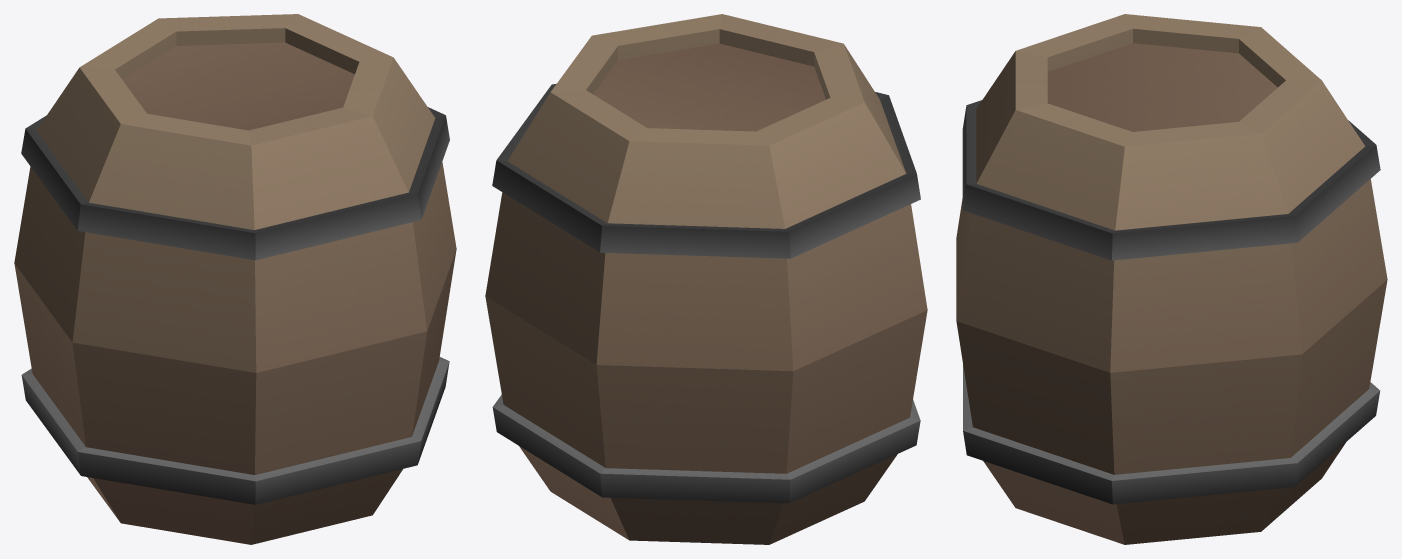
File: ItemPropsBarrel.fbx
The picture shows the model from 3 angles, left to right: view 1: azimuth 30°, elevation 25°; view 2: azimuth 150°, elevation 25°; view 3: azimuth 270°, elevation 25°; orthographic projection.
Parts seen in each view (by area): view 1: Cylinder; view 2: Cylinder; view 3: Cylinder.
Boxes of the visible parts, x1,y1,x2,y2 form: Cylinder: (14,14,456,544); Cylinder: (485,14,927,544); Cylinder: (956,14,1387,544).
Bounding box in the file's own units: 195 × 194 × 190.
